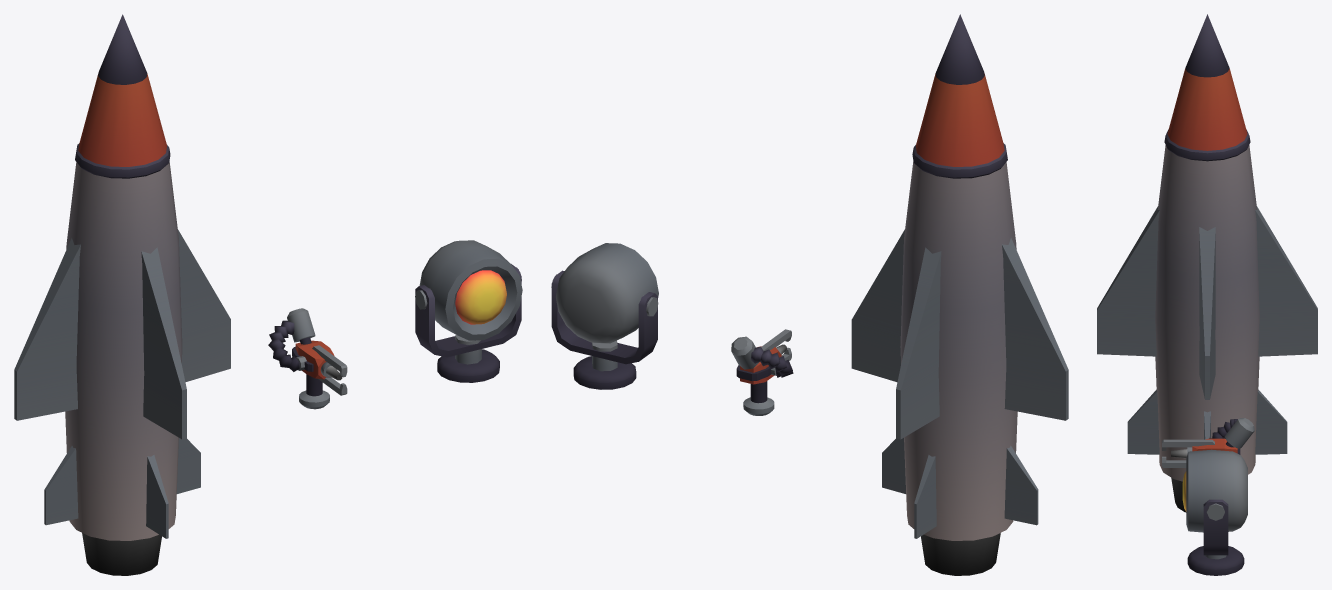
File: rocket tool light.fbx
3 views of the same model, side by side, from view 1: azimuth 30°, elevation 25°; view 2: azimuth 150°, elevation 25°; view 3: azimuth 270°, elevation 25° (orthographic). The views are drawn at different scales.
Parts seen in each view (by area): view 1: rocket, lamp, projector, repairtool; view 2: rocket, lamp, projector, repairtool; view 3: rocket, lamp, projector, repairtool.
Part boxes in pixels (bbox=[...]): rocket: bbox=[14, 14, 230, 575]; lamp: bbox=[415, 240, 522, 340]; projector: bbox=[415, 264, 521, 382]; repairtool: bbox=[268, 308, 347, 409]; rocket: bbox=[851, 14, 1068, 575]; lamp: bbox=[551, 243, 658, 343]; projector: bbox=[551, 270, 657, 389]; repairtool: bbox=[731, 329, 793, 415]; rocket: bbox=[1097, 14, 1317, 512]; lamp: bbox=[1182, 449, 1247, 532]; projector: bbox=[1187, 499, 1244, 575]; repairtool: bbox=[1162, 418, 1254, 467].
Bounding box in the file's own units: 970 × 1001 × 410.
